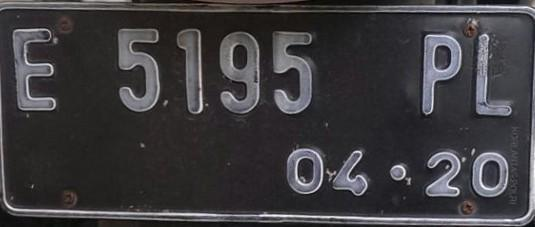clone-license-plate: (0, 2, 533, 223)
